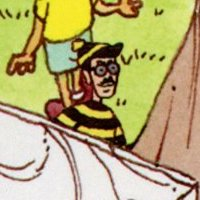odlaw: (84, 41, 117, 99)
